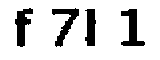1: (117, 6, 147, 51)
7: (48, 5, 81, 52)
f: (9, 6, 36, 51)
l: (83, 6, 105, 51)
